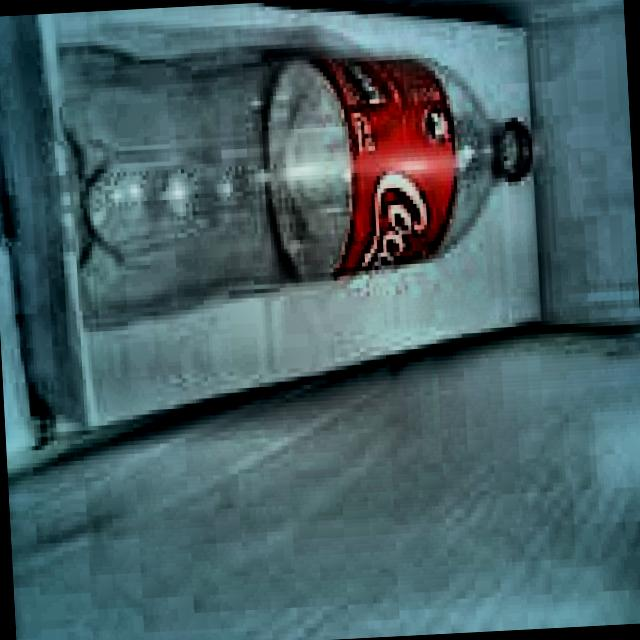plastic bottle: (62, 49, 530, 324)
